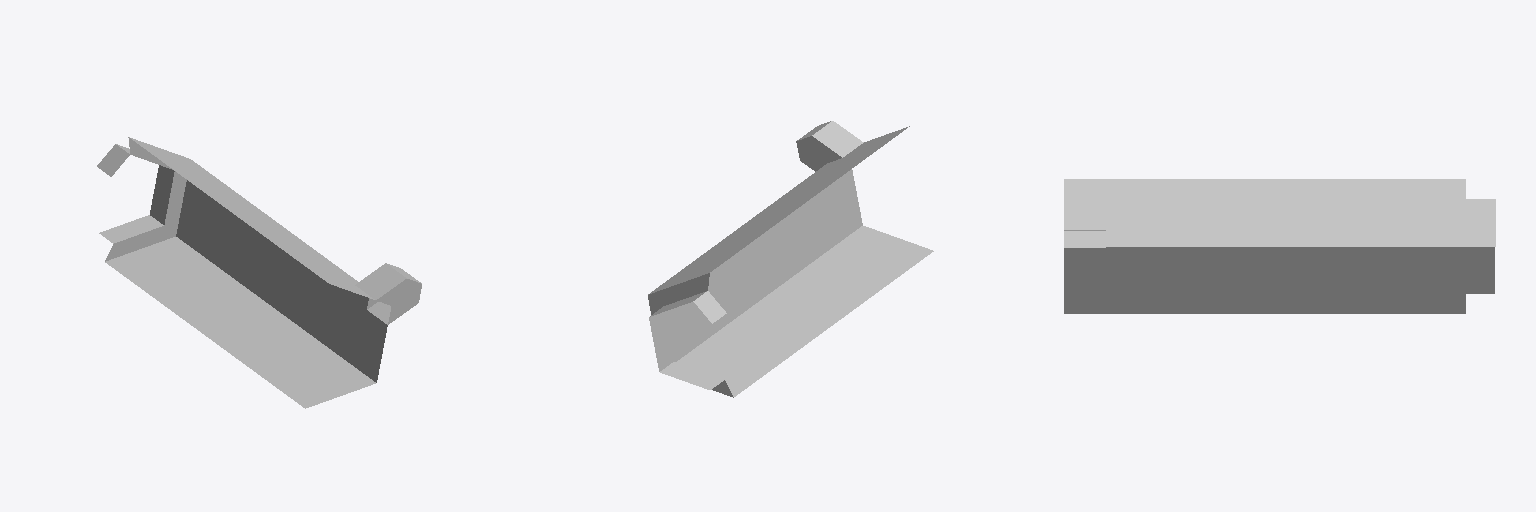
The model's file is flashLight.obj.
The picture shows the model from 3 angles: view 1: azimuth 30°, elevation 25°; view 2: azimuth 150°, elevation 25°; view 3: azimuth 270°, elevation 25°; orthographic projection.
Parts seen in each view (by area): view 1: Cylinder; view 2: Cylinder; view 3: Cylinder.
Boxes of the visible parts, x1=… form: Cylinder: x1=97, y1=137, x2=421, y2=408; Cylinder: x1=648, y1=121, x2=933, y2=397; Cylinder: x1=1064, y1=179, x2=1495, y2=313.
Size of the model in its own units: 14.92 by 14.52 by 47.62.